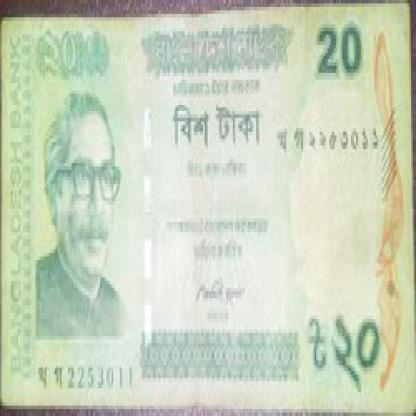Twenty: (306, 309, 383, 402), (165, 97, 270, 156), (308, 17, 373, 100), (30, 28, 111, 90)
